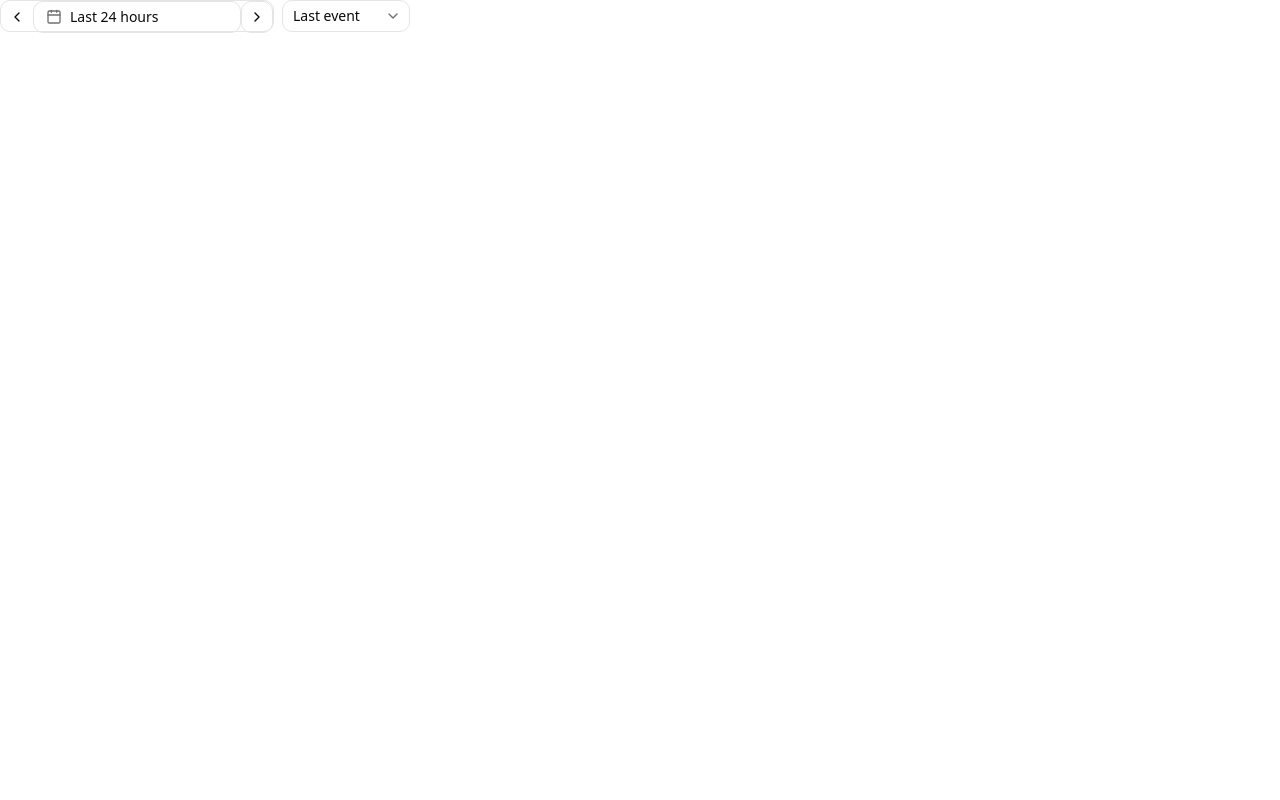
TimeRangePicker › has exactly one Apply button
Click the button "Last 24 hours". click: (137, 17)
box: [33,1,241,33]
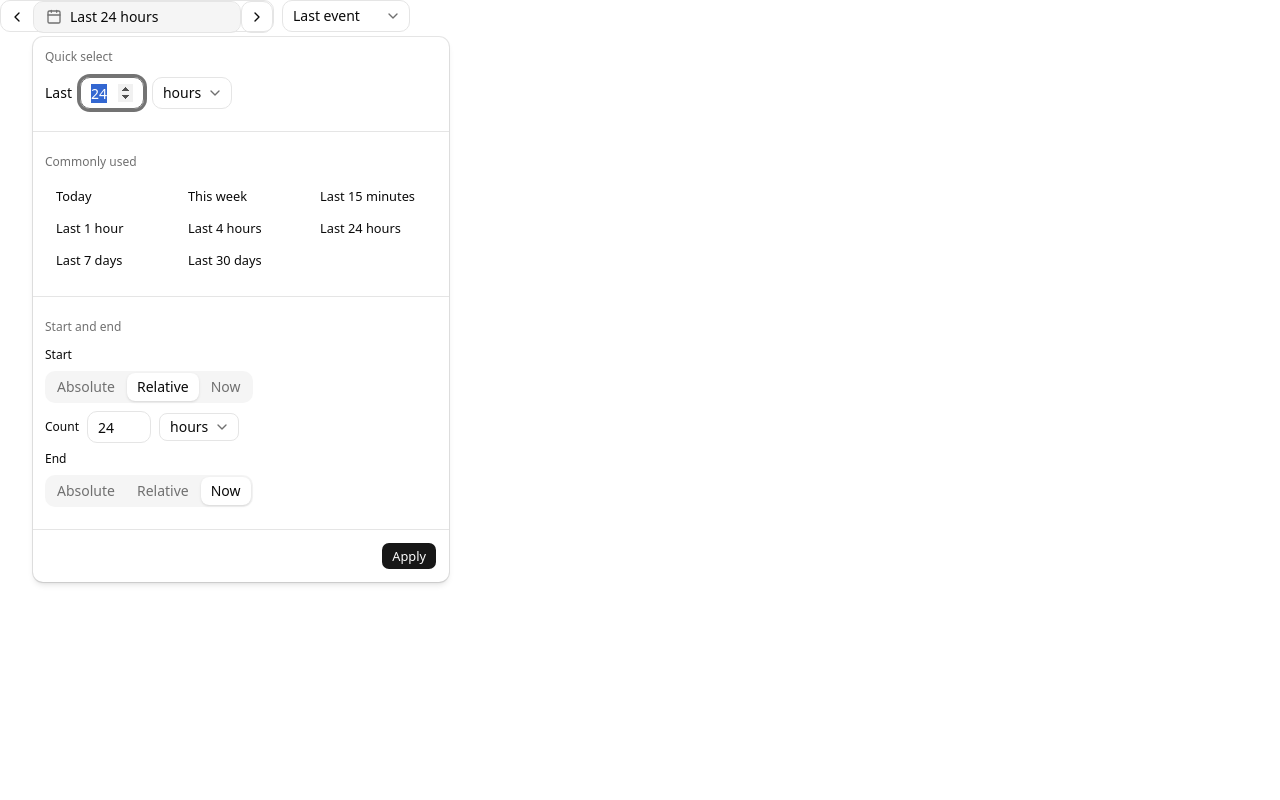
Now the number of buttons "Apply" is 1, box [381,542,437,570]
